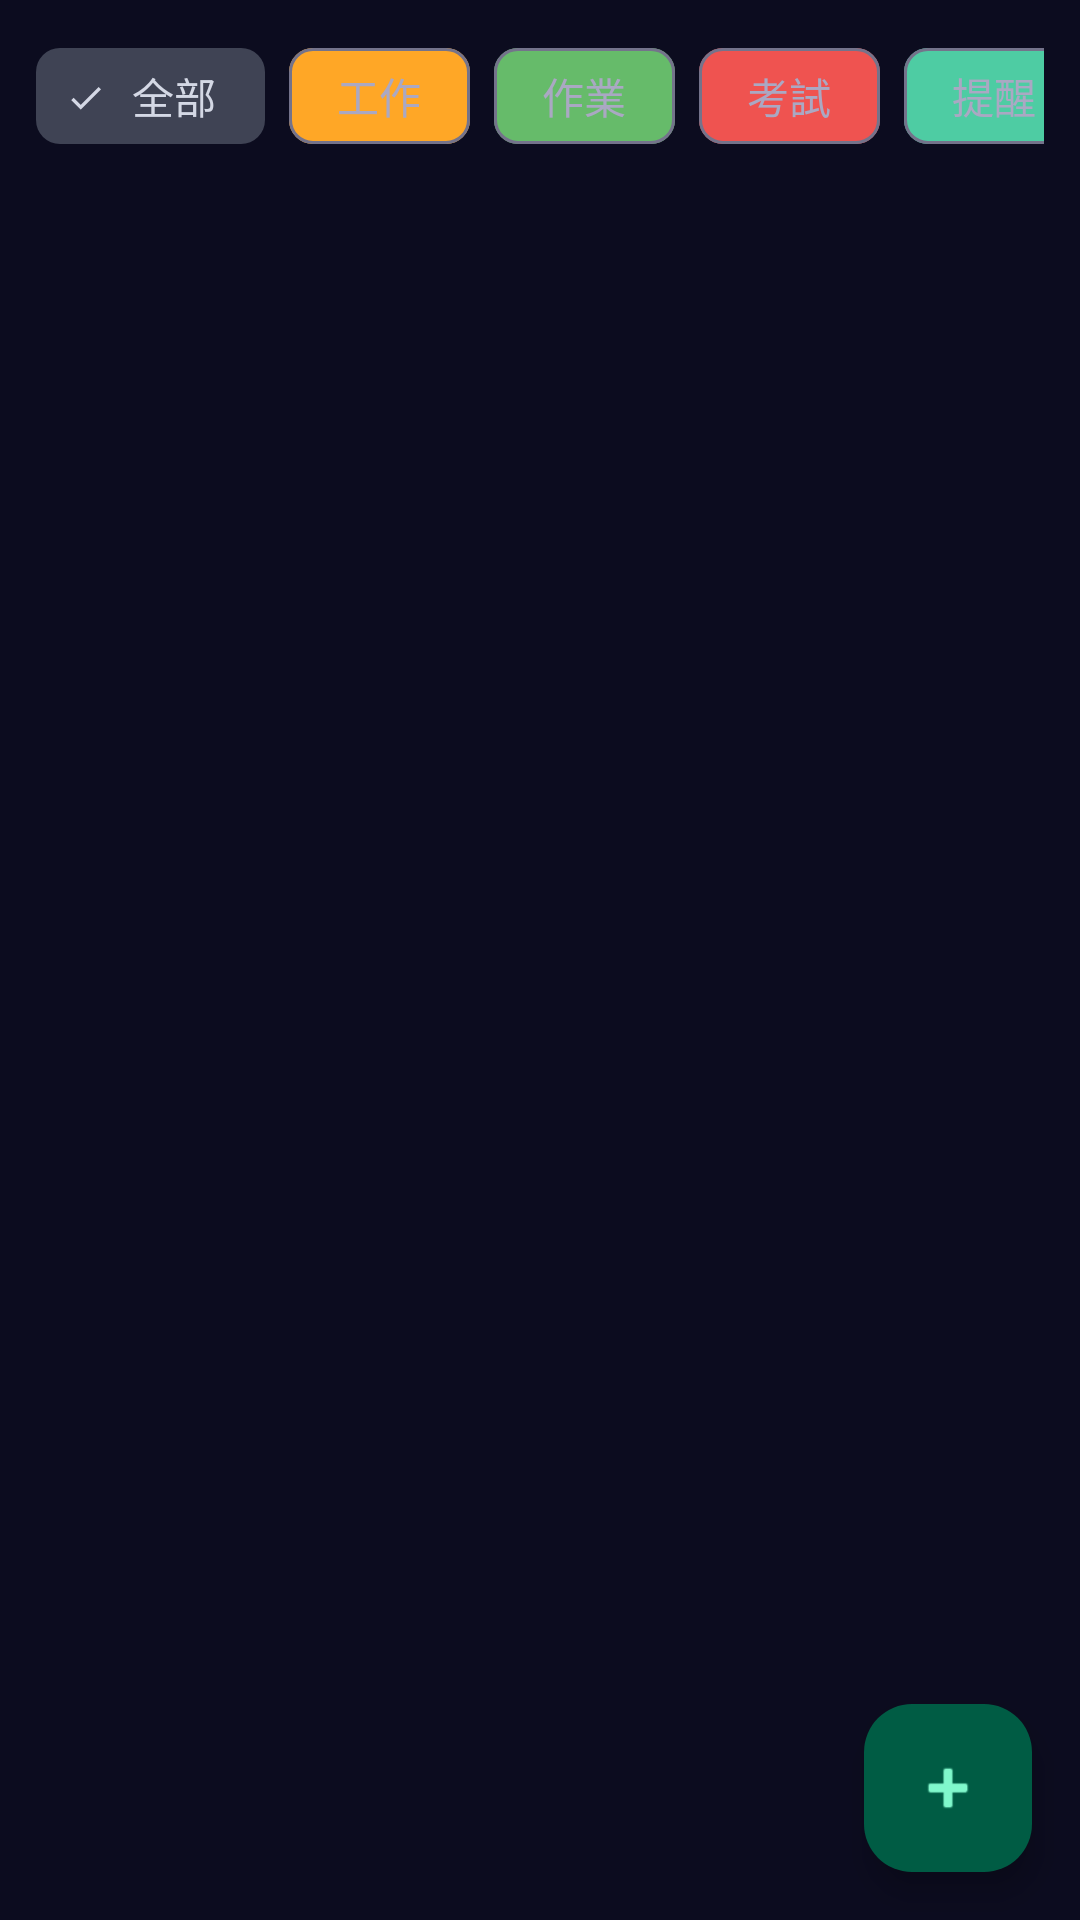

Icons on this 1080x1920 Android screen, each with the point to tap as [x,y]:
新增提醒: [948,1788]
